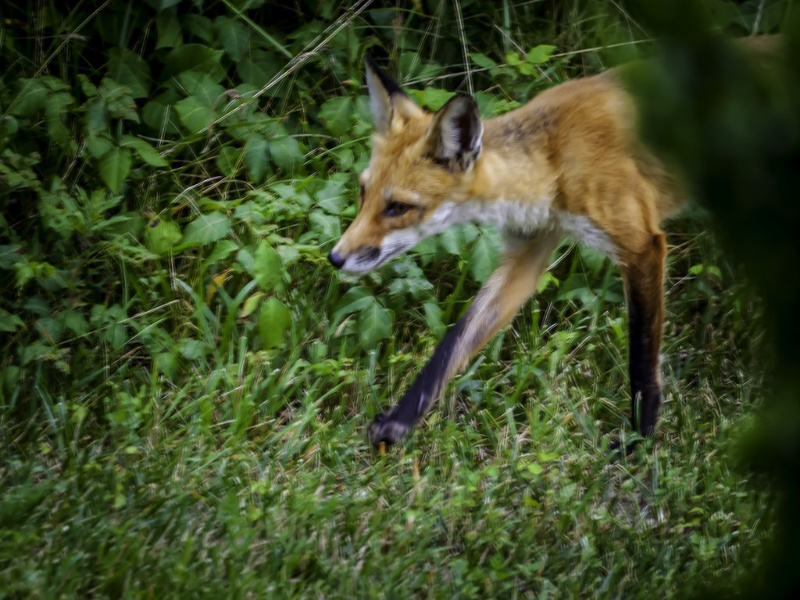fox: (320, 22, 800, 471)
